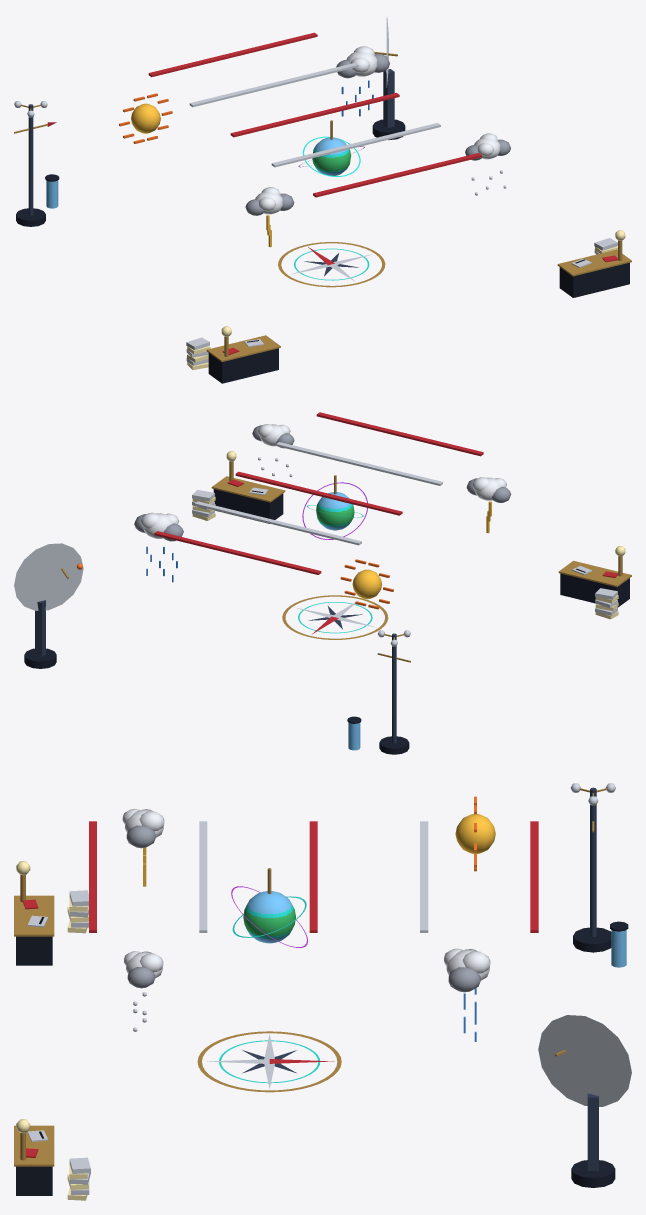
File: room.glb
3 views of the same model, one above another, from view 1: azimuth 30°, elevation 25°; view 2: azimuth 150°, elevation 25°; view 3: azimuth 270°, elevation 25° (orthographic). The views are drawn at different scales.
Bounding box in the file's own units: 17.95 × 5.8 × 16.8.
Materials: 1 (1 with a texture image).
